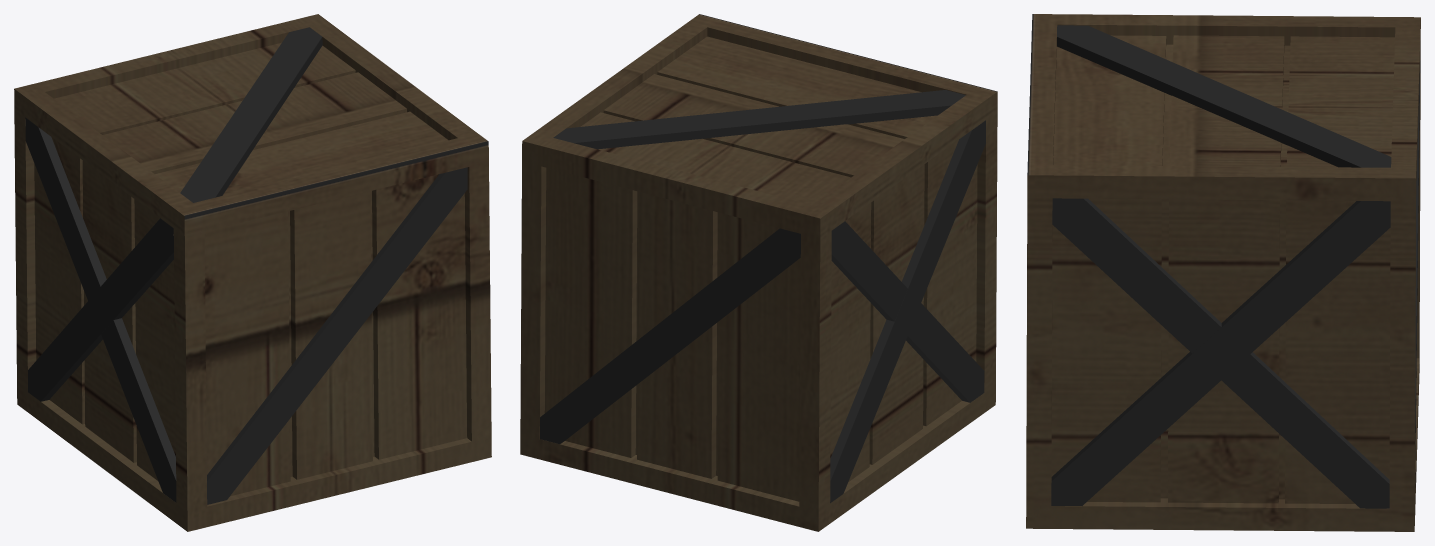
File: WoodBox.fbx
The picture shows the model from 3 angles, left to right: view 1: azimuth 30°, elevation 25°; view 2: azimuth 150°, elevation 25°; view 3: azimuth 270°, elevation 25°; orthographic projection. The views are drawn at different scales.
Visible parts, largest first — view 1: woodbox1; view 2: woodbox1; view 3: woodbox1.
Boxes of the visible parts, x1=… form: woodbox1: x1=14, y1=14, x2=491, y2=531; woodbox1: x1=520, y1=14, x2=997, y2=531; woodbox1: x1=1026, y1=14, x2=1420, y2=531.
Bounding box in the file's own units: 55.73 × 55.36 × 55.46.
1 material, 1 textured.
